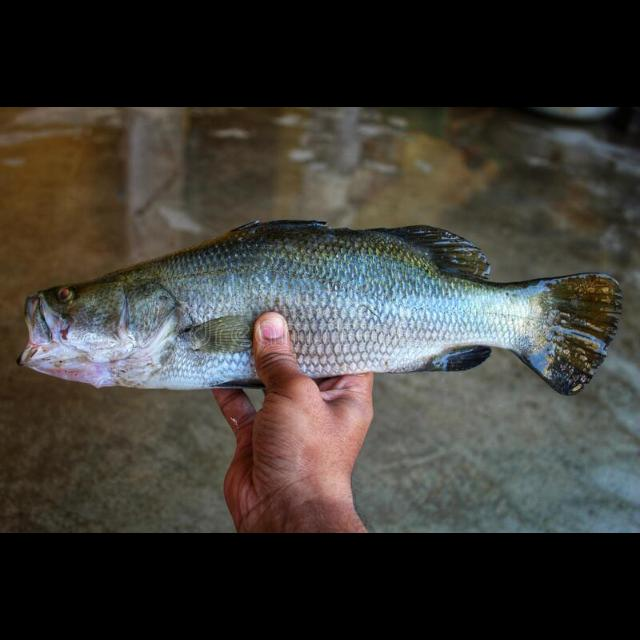Seabass: (12, 219, 624, 397)
